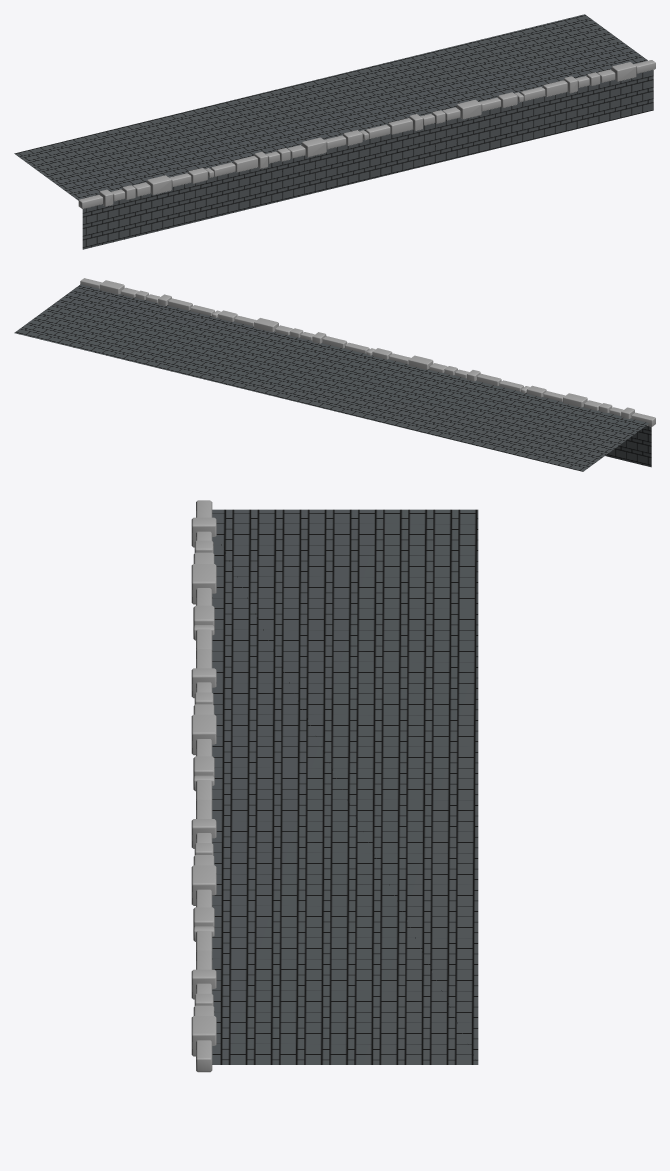
File: Platform.fbx
The picture shows the model from 3 angles, top to bottom: view 1: azimuth 30°, elevation 25°; view 2: azimuth 150°, elevation 25°; view 3: azimuth 270°, elevation 25°; orthographic projection. The views are drawn at different scales.
Visible parts, largest first — view 1: PlatformTop, PlatformWall, PlatformBricks; view 2: PlatformTop, PlatformBricks, PlatformWall; view 3: PlatformTop, PlatformBricks.
Part boxes in pixels (x1=…): PlatformTop: x1=14, y1=14, x2=647, y2=200; PlatformWall: x1=82, y1=70, x2=653, y2=249; PlatformBricks: x1=78, y1=60, x2=655, y2=208; PlatformTop: x1=14, y1=284, x2=649, y2=471; PlatformBricks: x1=80, y1=278, x2=655, y2=426; PlatformWall: x1=605, y1=425, x2=651, y2=467; PlatformTop: x1=212, y1=509, x2=478, y2=1064; PlatformBricks: x1=191, y1=500, x2=216, y2=1072.
Bounding box in the file's own units: 26.14 × 2.25 × 5.67.
